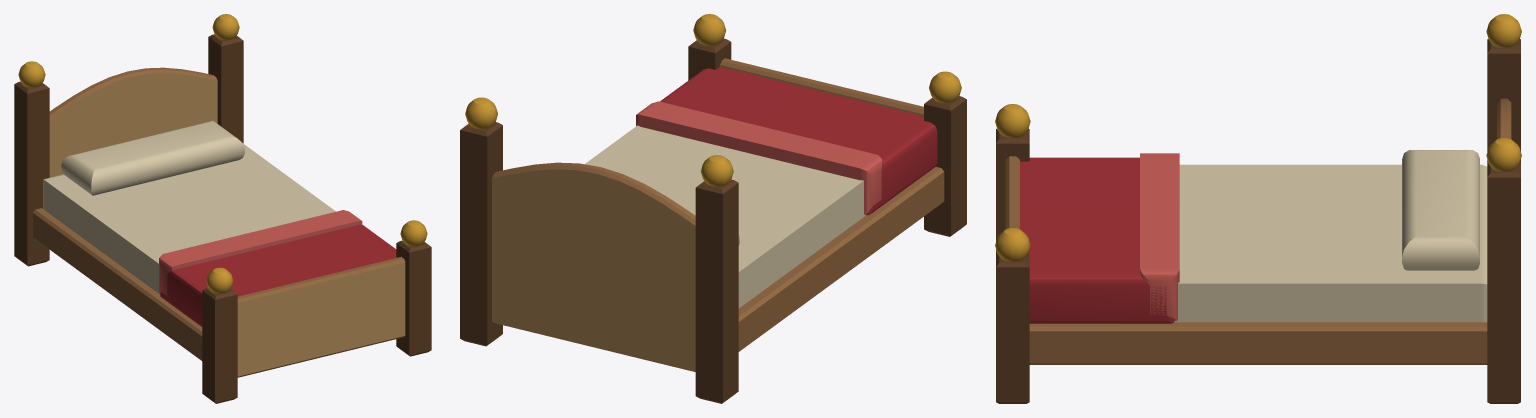
Rendered from Bed_08.glb.
The picture shows the model from 3 angles, left to right: view 1: azimuth 30°, elevation 25°; view 2: azimuth 150°, elevation 25°; view 3: azimuth 270°, elevation 25°; orthographic projection. The views are drawn at different scales.
Parts seen in each view (by area): view 1: Bed_08; view 2: Bed_08; view 3: Bed_08.
Boxes of the visible parts, box(x1,y1,x2,y2) form: Bed_08: box(14, 14, 431, 403); Bed_08: box(460, 14, 966, 403); Bed_08: box(995, 14, 1521, 403).
Size of the model in its own units: 4.64 by 4.03 by 7.44.
